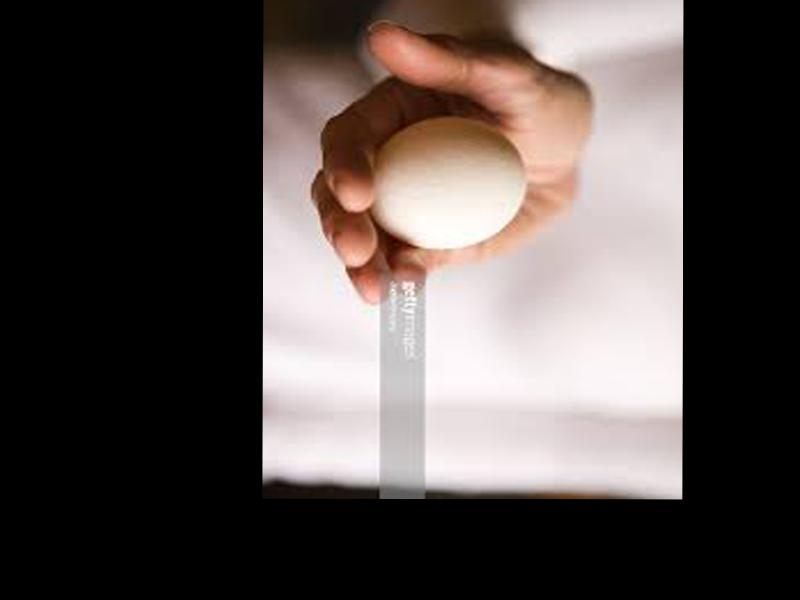Eggs: (370, 114, 524, 248)
